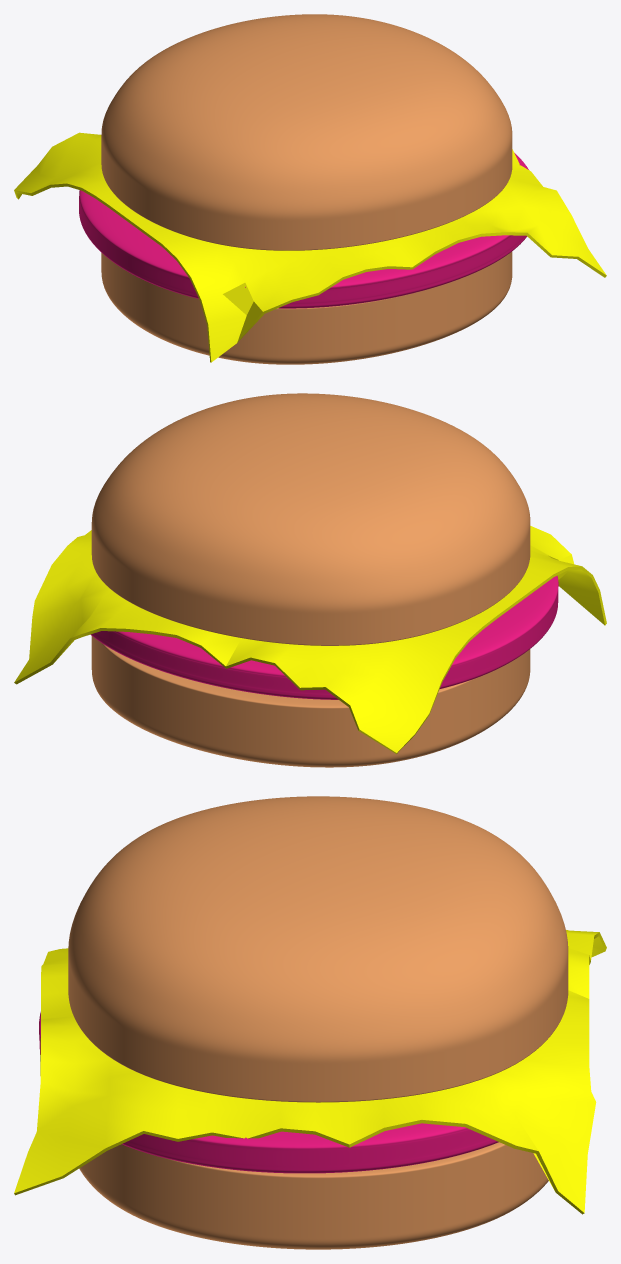
Rendered from hamburger.glb.
3 views of the same model, one above another, from view 1: azimuth 30°, elevation 25°; view 2: azimuth 150°, elevation 25°; view 3: azimuth 270°, elevation 25° (orthographic). The views are drawn at different scales.
Visible parts, largest first — view 1: Cube.003, Plane, Cube, Cube.002; view 2: Cube.003, Plane, Cube, Cube.002; view 3: Cube.003, Plane, Cube, Cube.002.
Part boxes in pixels (x1,y1,x2,y2): Cube.003: (101, 14, 512, 250); Plane: (14, 132, 606, 362); Cube: (101, 251, 512, 364); Cube.002: (79, 153, 528, 308); Cube.003: (91, 393, 530, 645); Plane: (14, 526, 606, 753); Cube: (91, 636, 530, 767); Cube.002: (90, 575, 558, 699); Cube.003: (68, 796, 568, 1102); Plane: (14, 930, 606, 1214); Cube: (79, 1142, 548, 1249); Cube.002: (39, 1012, 498, 1173).
Size of the model in its own units: 22.11 by 12.66 by 22.09.
